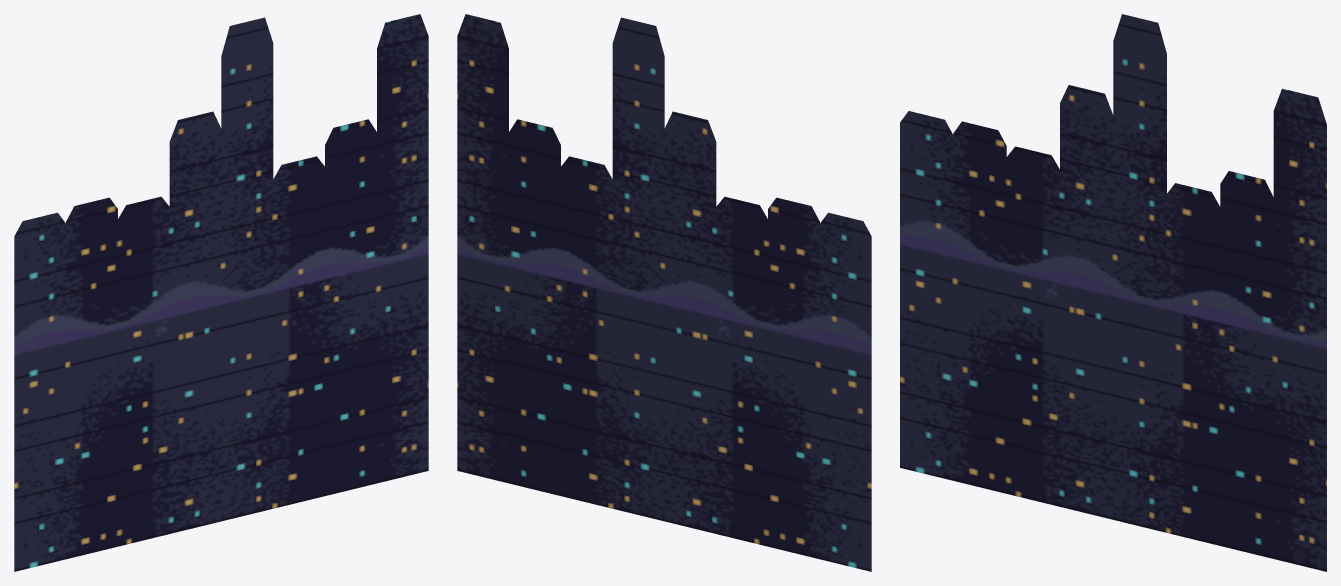
The model's file is cysky.near__tile.glb.
3 renders of one model, left to right at view 1: azimuth 30°, elevation 25°; view 2: azimuth 150°, elevation 25°; view 3: azimuth 330°, elevation 25°, orthographic. The views are drawn at different scales.
Visible parts, largest first — view 1: kit_card_skyline; view 2: kit_card_skyline; view 3: kit_card_skyline.
Boxes of the visible parts, <box> form: kit_card_skyline: <box>14,14,428,571</box>; kit_card_skyline: <box>457,14,871,571</box>; kit_card_skyline: <box>900,14,1326,571</box>.
Bounding box in the file's own units: 24 × 27.3 × 0.
Materials: 1 (1 with a texture image).
